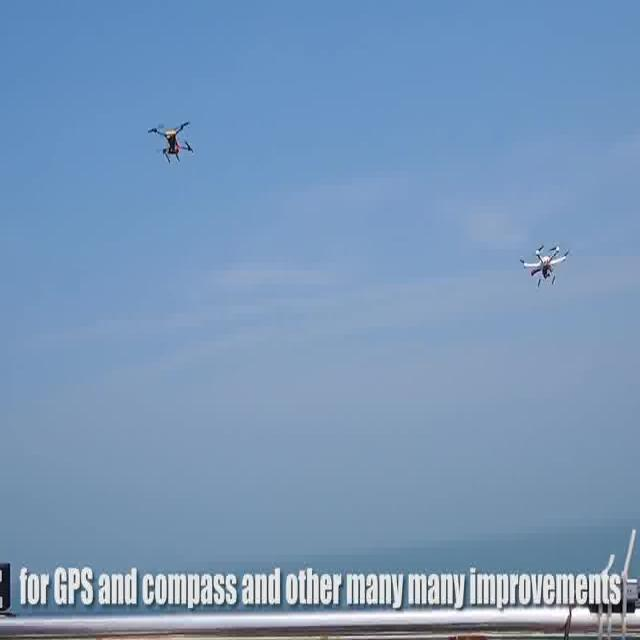drone: (518, 238, 568, 284), (148, 114, 192, 164)
